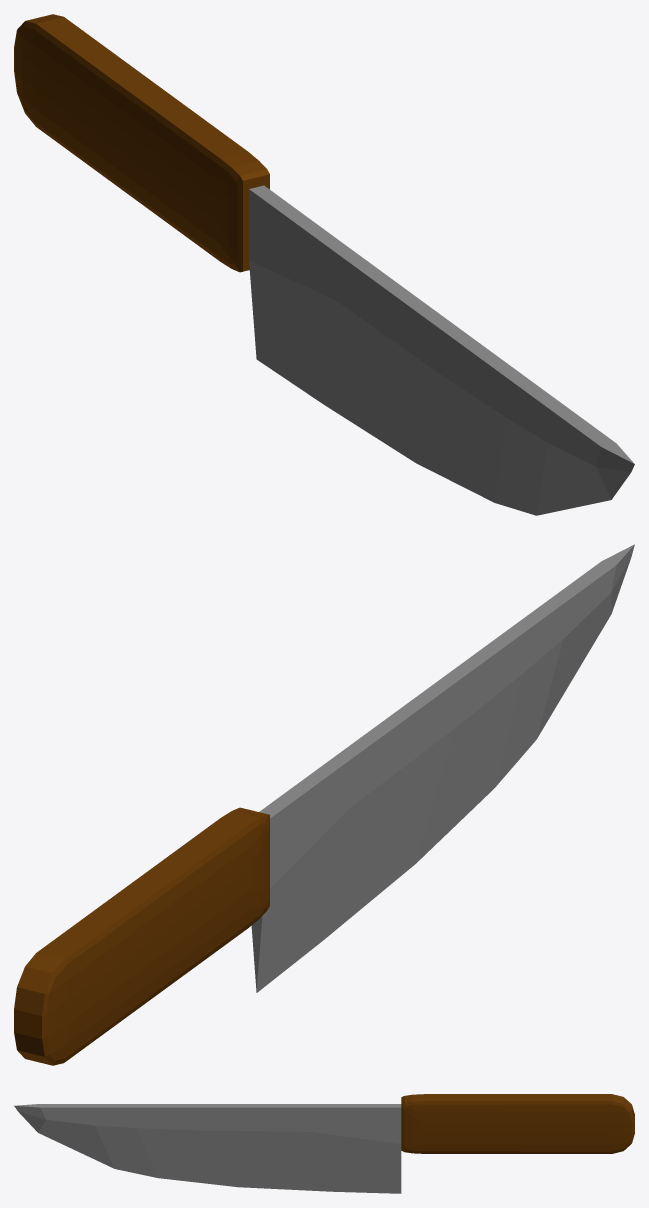
File: knife.fbx
3 views of the same model, one above another, from view 1: azimuth 30°, elevation 25°; view 2: azimuth 150°, elevation 25°; view 3: azimuth 270°, elevation 25° (orthographic). The views are drawn at different scales.
Visible parts, largest first — view 1: Cube; view 2: Cube; view 3: Cube.
Part boxes in pixels (x1,y1,x2,y2): Cube: [14, 14, 634, 515]; Cube: [14, 544, 634, 1065]; Cube: [14, 1094, 634, 1193].
Size of the model in its own units: 34.97 by 179 by 1049.
